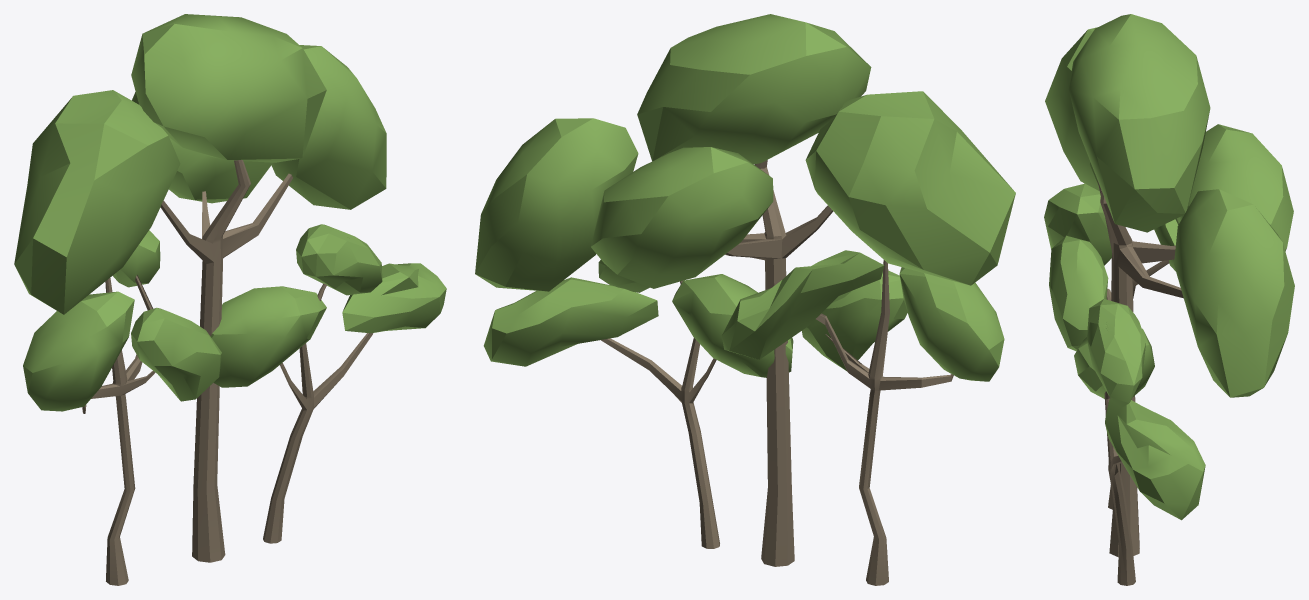
Rendered from maple tree.dae.
3 views of the same model, side by side, from view 1: azimuth 30°, elevation 25°; view 2: azimuth 150°, elevation 25°; view 3: azimuth 270°, elevation 25° (orthographic). The views are drawn at different scales.
Visible parts, largest first — view 1: Instance-Def-skpEFB7_01; view 2: Instance-Def-skpEFB7_01; view 3: Instance-Def-skpEFB7_01.
Part boxes in pixels (<box>): Instance-Def-skpEFB7_01: <box>14,14,446,585</box>; Instance-Def-skpEFB7_01: <box>475,14,1015,585</box>; Instance-Def-skpEFB7_01: <box>1044,14,1294,585</box>.
Bounding box in the file's own units: 6.53 × 3.17 × 7.29.
